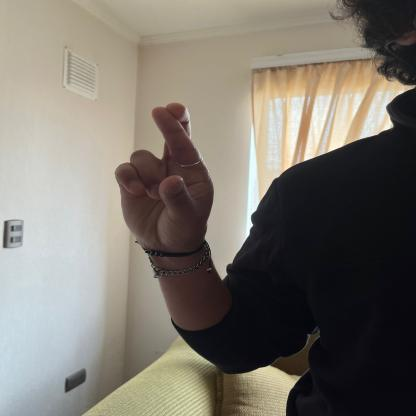R: (108, 96, 218, 254)
